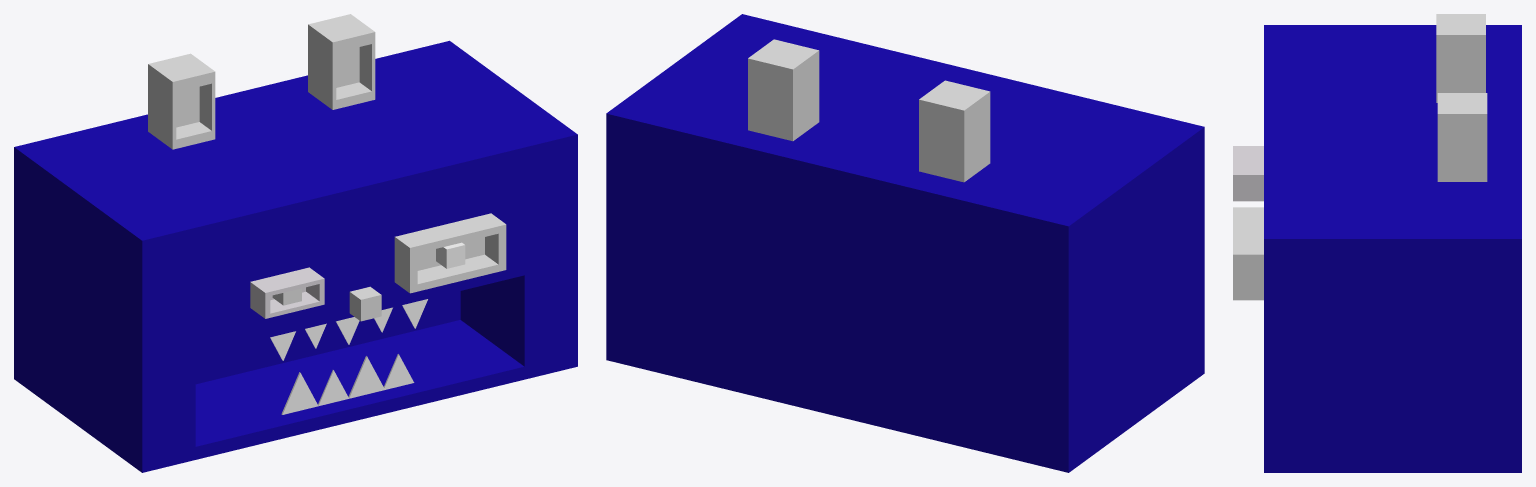
The model's file is cuboid_monster.glb.
3 renders of one model, left to right at view 1: azimuth 30°, elevation 25°; view 2: azimuth 150°, elevation 25°; view 3: azimuth 270°, elevation 25°, orthographic. The views are drawn at different scales.
Visible parts, largest first — view 1: Cube_16, Cube.005_4, Cube.001_0, Cube.002_1, Cube.003_2, Cube.007_6, Plane.005_12, Plane.006_13, Cube.006_5, Plane.007_14; view 2: Cube_16, Cube.001_0, Cube.002_1; view 3: Cube_16, Cube.002_1, Cube.001_0, Cube.005_4, Cube.003_2.
Part boxes in pixels (left/top/right/bottom): Cube_16: left=14, top=40, right=577, bottom=472; Cube.005_4: left=394, top=213, right=506, bottom=293; Cube.001_0: left=148, top=53, right=215, bottom=149; Cube.002_1: left=308, top=14, right=375, bottom=109; Cube.003_2: left=250, top=267, right=324, bottom=318; Cube.007_6: left=349, top=286, right=381, bottom=321; Plane.005_12: left=281, top=372, right=318, bottom=414; Plane.006_13: left=348, top=356, right=384, bottom=398; Cube.006_5: left=436, top=242, right=465, bottom=268; Plane.007_14: left=318, top=370, right=348, bottom=406; Cube_16: left=606, top=14, right=1204, bottom=472; Cube.001_0: left=919, top=80, right=990, bottom=182; Cube.002_1: left=748, top=39, right=819, bottom=141; Cube_16: left=1264, top=25, right=1521, bottom=472; Cube.002_1: left=1437, top=93, right=1487, bottom=181; Cube.001_0: left=1436, top=14, right=1485, bottom=102; Cube.005_4: left=1233, top=207, right=1263, bottom=300; Cube.003_2: left=1233, top=146, right=1263, bottom=201.
Bounding box in the file's own units: 11.99 × 7.88 × 6.83.
